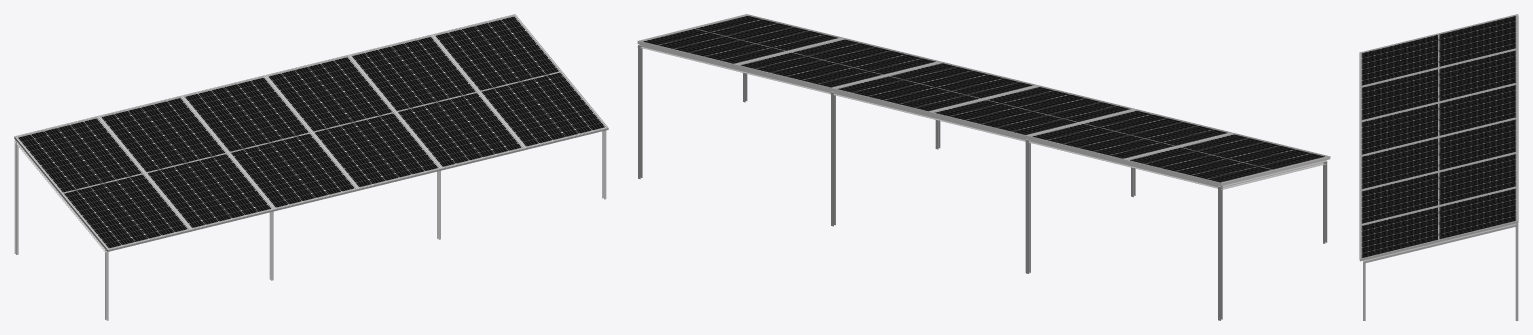
The model's file is soler_panel_setup.glb.
3 renders of one model, left to right at view 1: azimuth 30°, elevation 25°; view 2: azimuth 150°, elevation 25°; view 3: azimuth 270°, elevation 25°, orthographic. The views are drawn at different scales.
Parts seen in each view (by area): view 1: SOLARPANEL; view 2: SOLARPANEL; view 3: SOLARPANEL.
Boxes of the visible parts, bbox=[...] form: SOLARPANEL: bbox=[14, 14, 608, 320]; SOLARPANEL: bbox=[637, 14, 1330, 320]; SOLARPANEL: bbox=[1359, 14, 1518, 320].
Bounding box in the file's own units: 6.81 × 1.53 × 2.21.
1 material, 1 textured.
